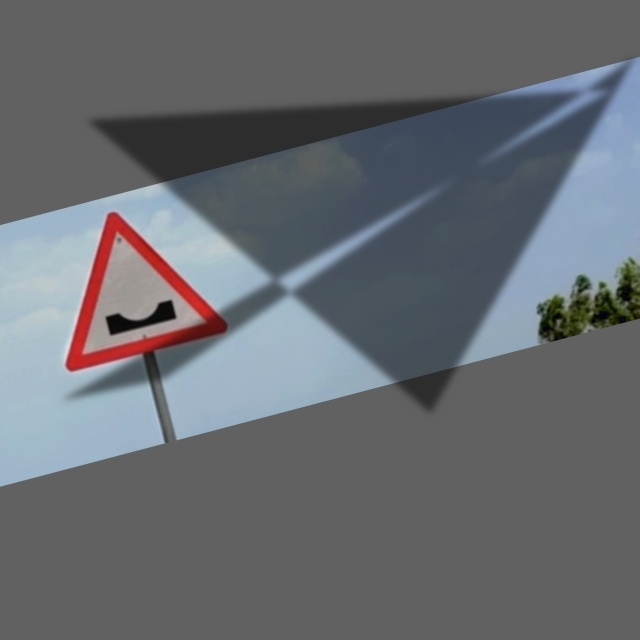Dangerous_Dip: (36, 191, 230, 373)
